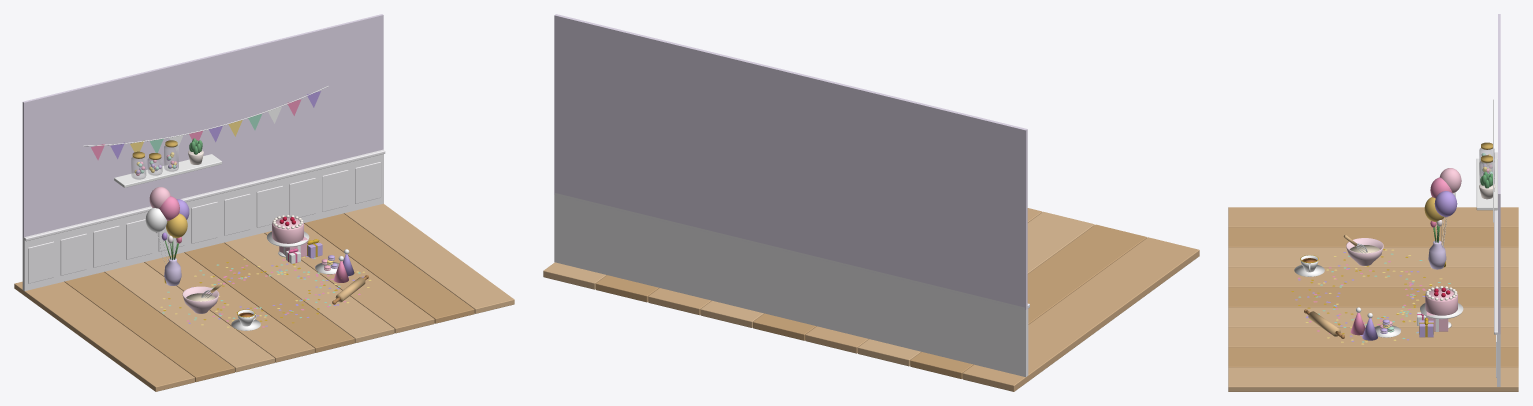
Rendered from set.glb.
The picture shows the model from 3 angles, left to right: view 1: azimuth 30°, elevation 25°; view 2: azimuth 150°, elevation 25°; view 3: azimuth 270°, elevation 25°; orthographic projection. The views are drawn at different scales.
Parts seen in each view (by area): view 1: wall_mesh, table_mesh, prop_balloons_mesh, prop_bunting_mesh, shelf_props_mesh, prop_cakestand_mesh, prop_confetti_mesh, prop_bowl_mesh, prop_gifts_mesh, prop_vase_mesh, prop_teacup_mesh; view 2: wall_mesh, table_mesh; view 3: table_mesh, wall_mesh, prop_balloons_mesh, prop_cakestand_mesh, prop_confetti_mesh, prop_bowl_mesh, shelf_props_mesh, prop_gifts_mesh, prop_vase_mesh, prop_hats_mesh, prop_teacup_mesh, prop_rollingpin_mesh (+1 smaller).
Boxes of the visible parts, x1,y1,x2,y2 form: wall_mesh: (22, 14, 385, 291); table_mesh: (14, 203, 514, 391); prop_balloons_mesh: (145, 187, 189, 283); prop_bunting_mesh: (83, 86, 328, 160); shelf_props_mesh: (131, 138, 203, 179); prop_cakestand_mesh: (267, 215, 309, 257); prop_confetti_mesh: (160, 256, 371, 329); prop_bowl_mesh: (182, 282, 222, 313); prop_gifts_mesh: (279, 236, 322, 263); prop_vase_mesh: (161, 232, 181, 285); prop_teacup_mesh: (231, 309, 260, 330); wall_mesh: (554, 14, 1029, 377); table_mesh: (543, 208, 1199, 391); table_mesh: (1228, 207, 1518, 391); wall_mesh: (1476, 14, 1500, 386); prop_balloons_mesh: (1424, 168, 1461, 267); prop_cakestand_mesh: (1420, 286, 1463, 328); prop_confetti_mesh: (1291, 249, 1450, 344); prop_bowl_mesh: (1343, 234, 1383, 265); shelf_props_mesh: (1479, 142, 1495, 199); prop_gifts_mesh: (1417, 311, 1448, 337); prop_vase_mesh: (1428, 220, 1446, 269); prop_hats_mesh: (1350, 307, 1377, 340); prop_teacup_mesh: (1294, 255, 1324, 276); prop_rollingpin_mesh: (1304, 309, 1344, 338).
Size of the model in its own units: 44 by 22.6 by 30.
